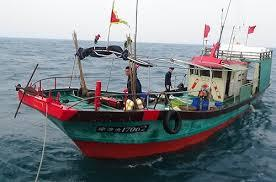Ship: (17, 46, 272, 160)
